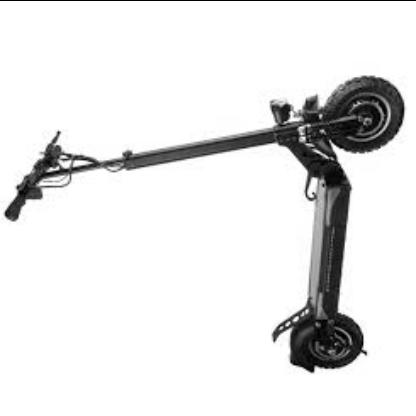bike: (1, 75, 407, 375)
